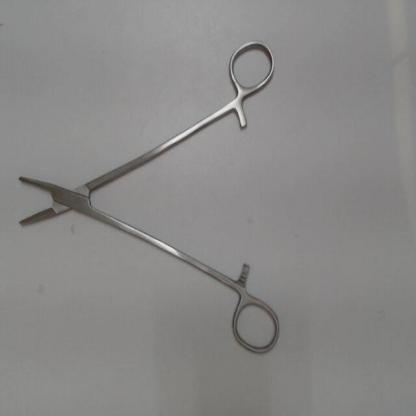8 Mayo Needle Holder: (9, 30, 286, 364)
